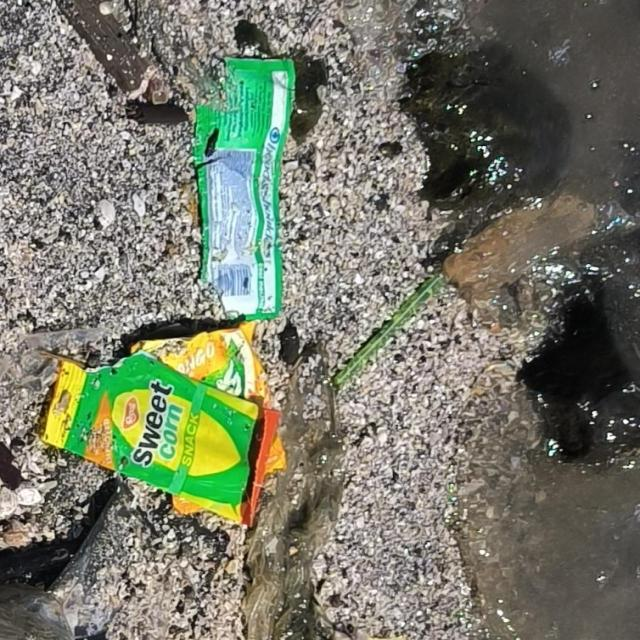plastic_waste: (39, 324, 290, 528), (192, 55, 298, 322), (333, 270, 447, 387)
